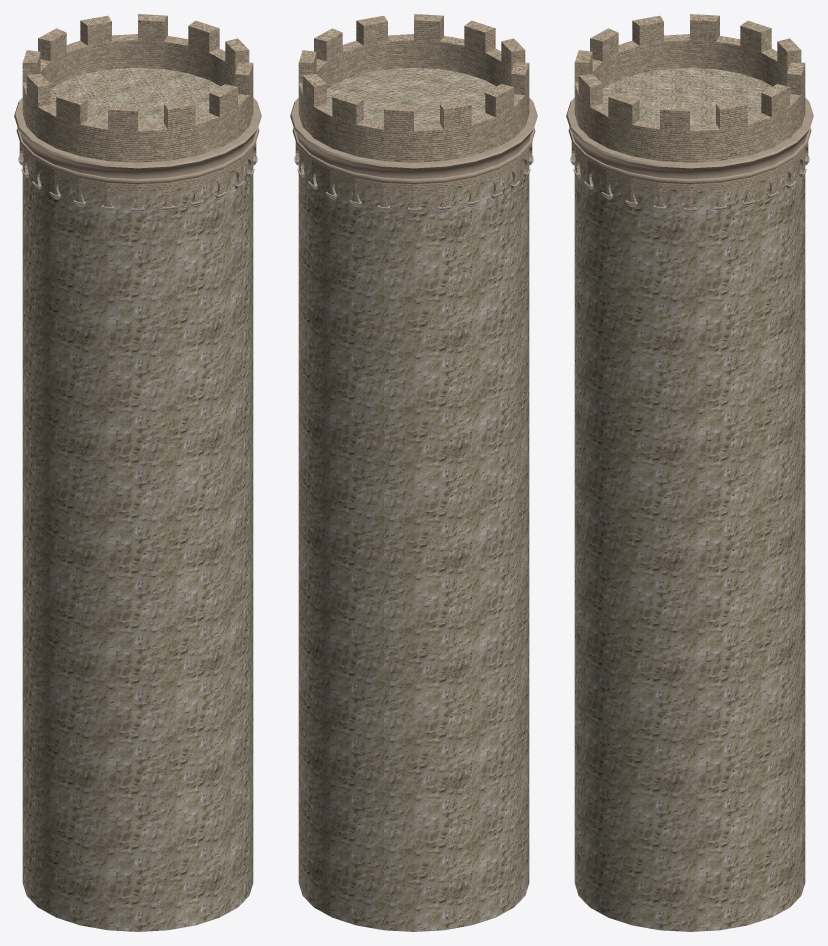
The model's file is torre.fbx.
3 renders of one model, left to right at view 1: azimuth 30°, elevation 25°; view 2: azimuth 150°, elevation 25°; view 3: azimuth 270°, elevation 25°, orthographic.
Visible parts, largest first — view 1: polySurface401, polySurface426; view 2: polySurface401, polySurface426; view 3: polySurface401, polySurface426.
Part boxes in pixels (x1=…): polySurface401: x1=14, y1=14, x2=261, y2=931; polySurface426: x1=19, y1=142, x2=256, y2=208; polySurface401: x1=290, y1=14, x2=537, y2=931; polySurface426: x1=295, y1=142, x2=532, y2=208; polySurface401: x1=566, y1=14, x2=813, y2=931; polySurface426: x1=571, y1=142, x2=808, y2=208.
Size of the model in its own units: 783 by 2863 by 783.
